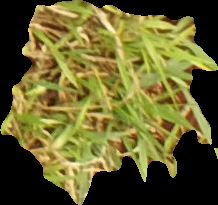grass: (1, 1, 217, 204)
